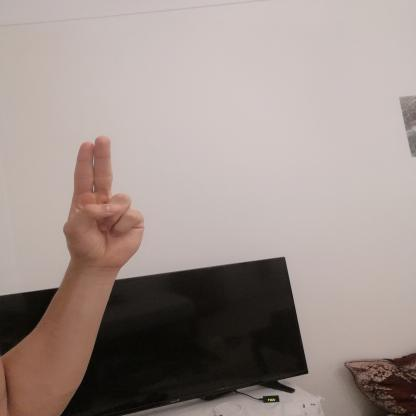TA: (51, 128, 156, 278)
